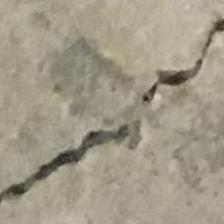Crack: (0, 16, 224, 204)
